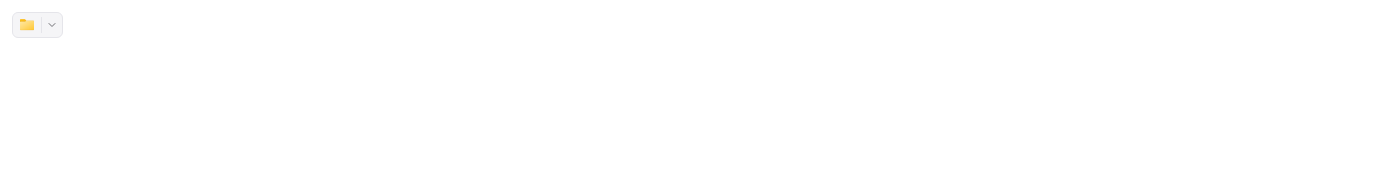
Test: 在…中打开（拆分按钮） › 打开失败给出可见提示
The width and height of the screenshot is (1378, 172).
Click the button named "用 文件资源管理器 打开".
click(27, 25)  # box [13,13,41,37]
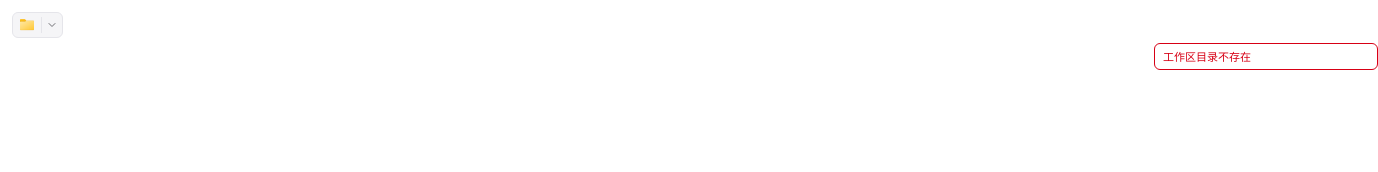
Check: the message reads "工作区目录不存在", box [1163,49,1251,64]
